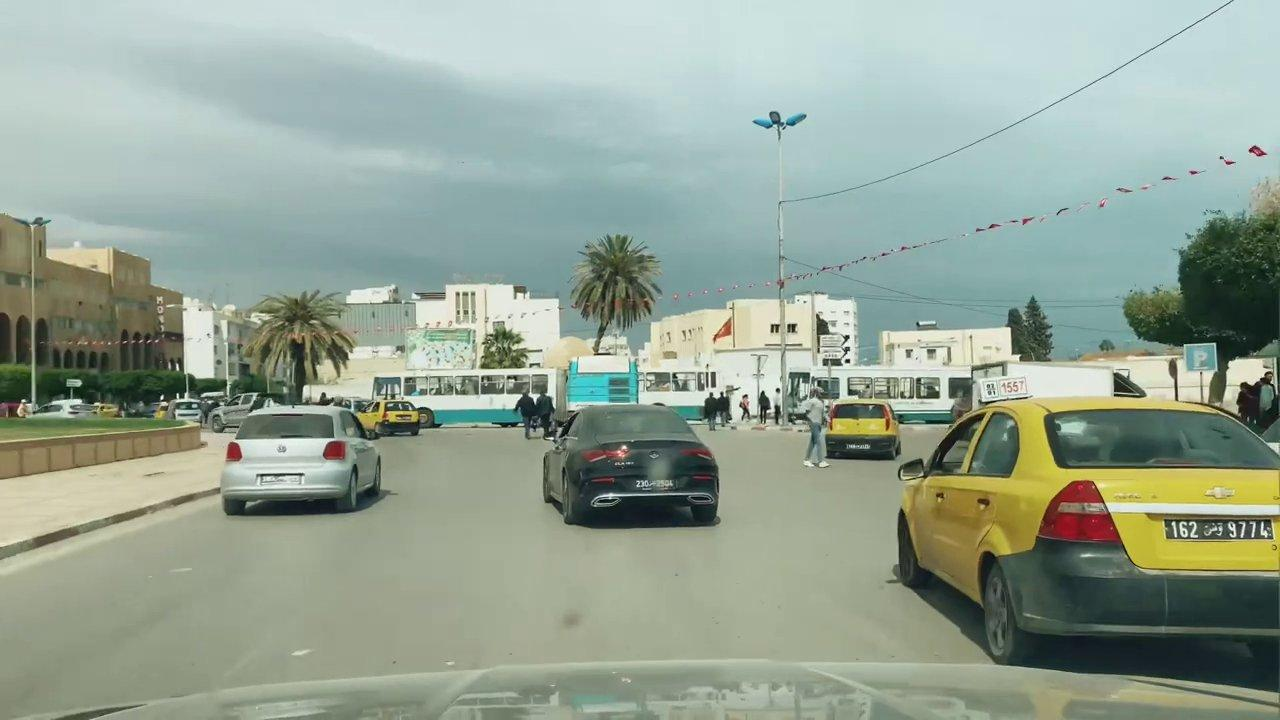parking zone: (1183, 343, 1219, 374)
